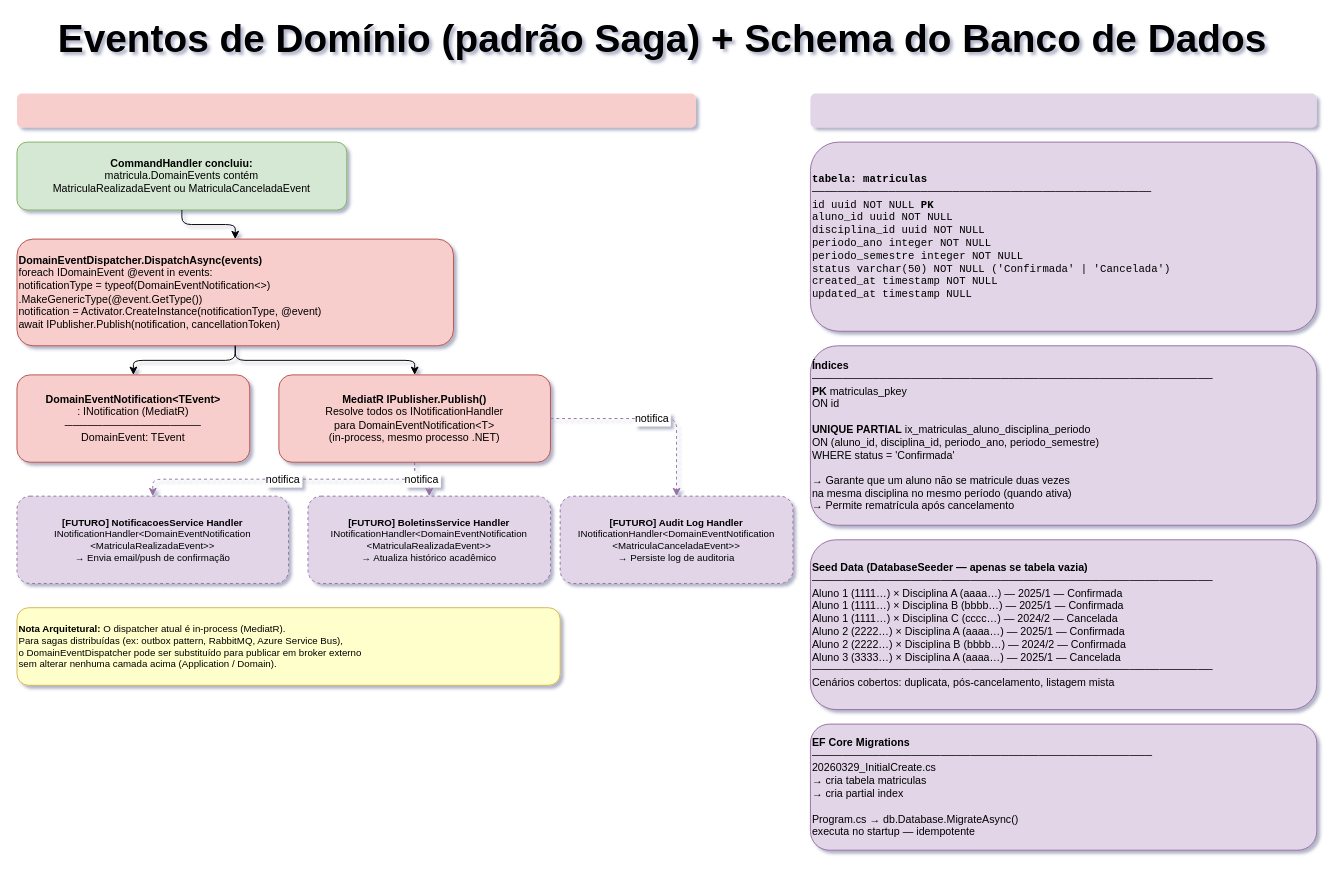
Some shapes in this 1340 by 873 pixel diagram are drawn without their labels. Each missing label, with the centre of its shape:
Fluxo de Eventos de Domínio — Dispatcher Interno (MediatR In-Process): pixel 355 110
Schema do Banco de Dados — PostgreSQL (EF Core + snake_case): pixel 1063 110
